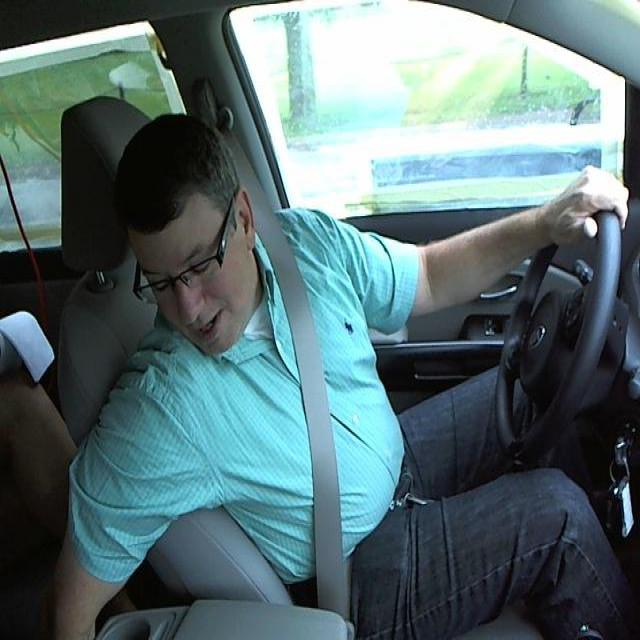seatbelt: (271, 271, 357, 609)
